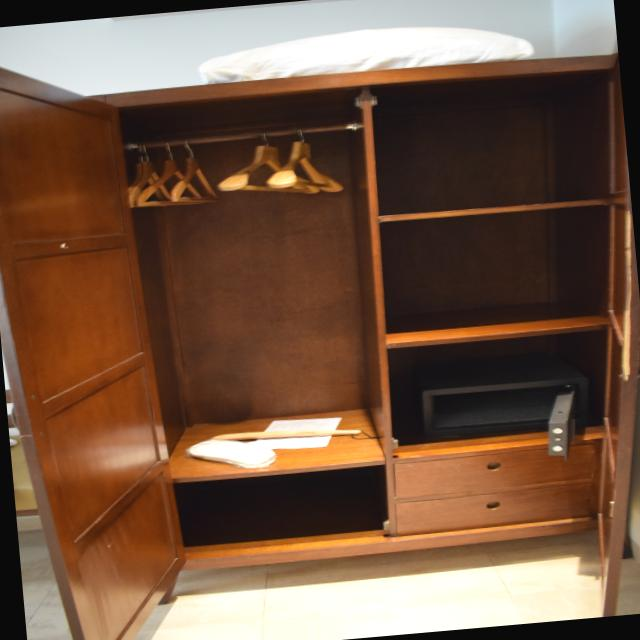mess: (189, 396, 381, 494)
